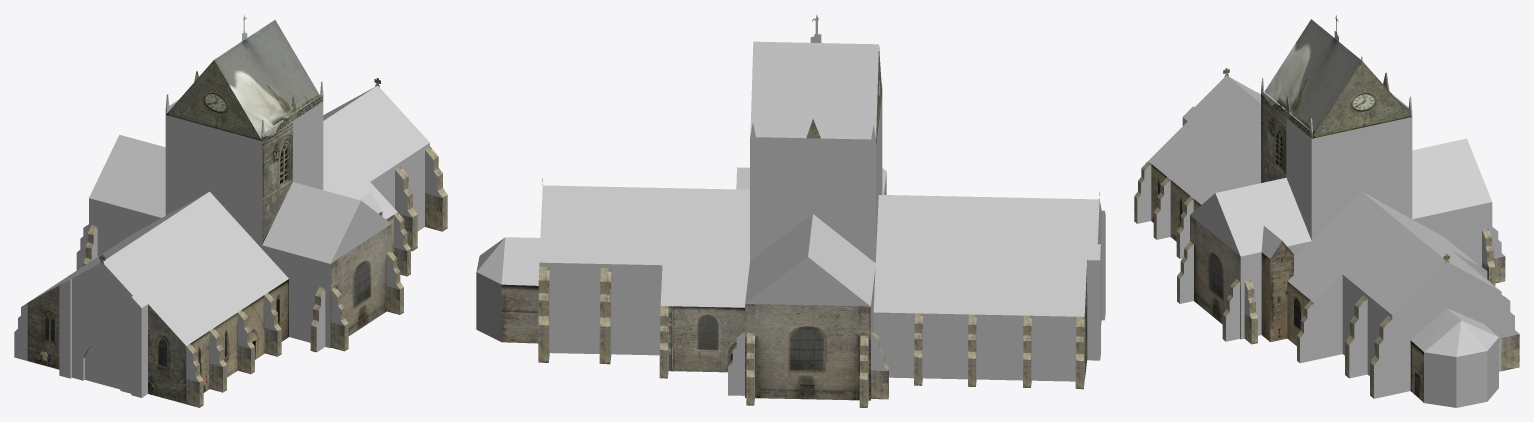
Rendered from st mere eglise.dae.
3 renders of one model, left to right at view 1: azimuth 30°, elevation 25°; view 2: azimuth 150°, elevation 25°; view 3: azimuth 270°, elevation 25°, orthographic. The views are drawn at different scales.
Visible parts, largest first — view 1: church (×22), edge (×10), edge2 (×4); view 2: church (×15), edge (×9), edge2 (×2); view 3: church (×25), edge (×8), edge2 (×6).
Boxes of the visible parts, bbox=[...] form: church (×22): bbox=[27, 20, 429, 403]; edge (×10): bbox=[14, 212, 410, 407]; edge2 (×4): bbox=[395, 146, 447, 251]; church (×15): bbox=[476, 41, 1105, 400]; edge (×9): bbox=[659, 306, 1084, 407]; edge2 (×2): bbox=[538, 266, 611, 364]; church (×25): bbox=[1148, 19, 1501, 407]; edge (×8): bbox=[1137, 164, 1495, 363]; edge2 (×6): bbox=[1345, 295, 1519, 398].
Size of the model in its own units: 1833 by 1307 by 1040.
